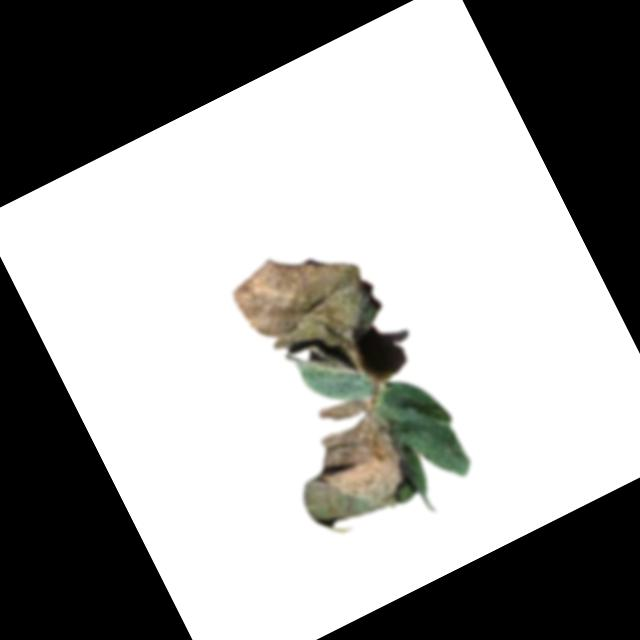Late_blight: (269, 379, 434, 543), (224, 221, 390, 379)
